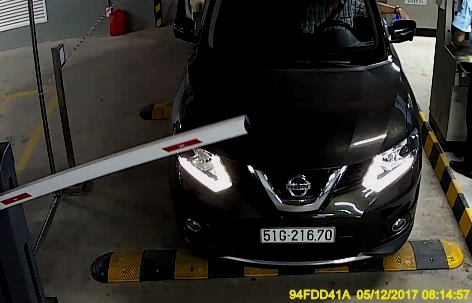plate: (257, 222, 335, 244)
